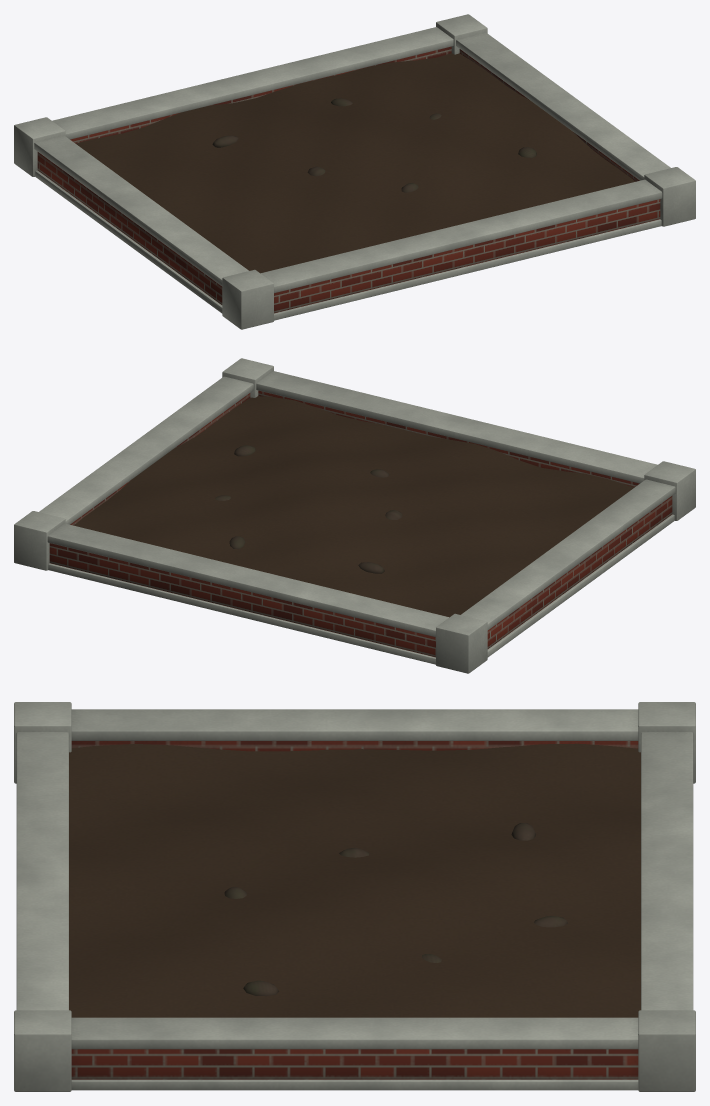
File: CTCC_LOC01_PlanterCurbAndWalkway.fbx
3 renders of one model, top to bottom at view 1: azimuth 30°, elevation 25°; view 2: azimuth 150°, elevation 25°; view 3: azimuth 270°, elevation 25°, orthographic. The views are drawn at different scales.
Visible parts, largest first — view 1: CTCC_LOC01_PlanterCurbAndWalkway_LOD0; view 2: CTCC_LOC01_PlanterCurbAndWalkway_LOD0; view 3: CTCC_LOC01_PlanterCurbAndWalkway_LOD0.
Part boxes in pixels (box(x1,y1,x2,y2)): CTCC_LOC01_PlanterCurbAndWalkway_LOD0: box(14, 14, 695, 329); CTCC_LOC01_PlanterCurbAndWalkway_LOD0: box(14, 358, 695, 673); CTCC_LOC01_PlanterCurbAndWalkway_LOD0: box(14, 702, 695, 1091).
Size of what is drawn, in the model's own units: 4.64 by 0.3848 by 4.02.
